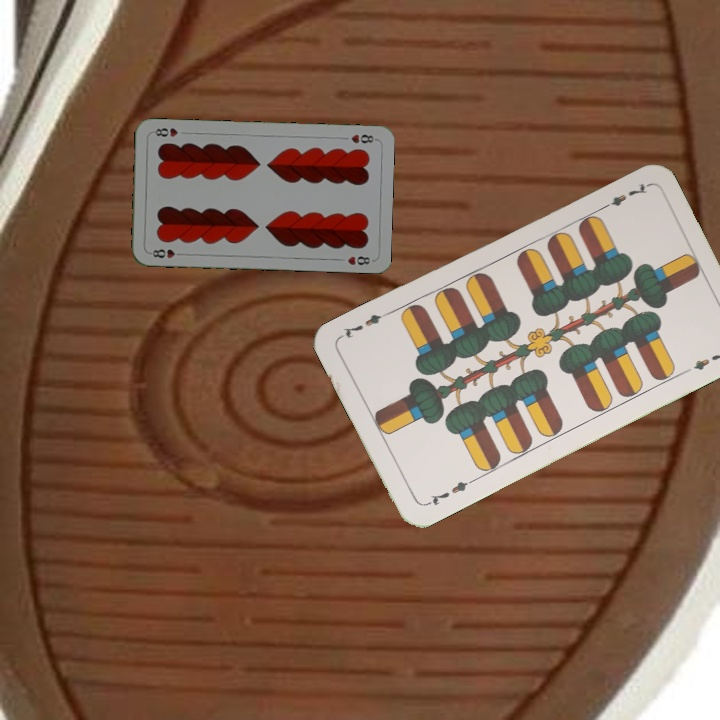E7: (421, 475, 476, 509), (596, 179, 651, 213)
H8: (146, 245, 186, 261), (347, 130, 378, 146)
